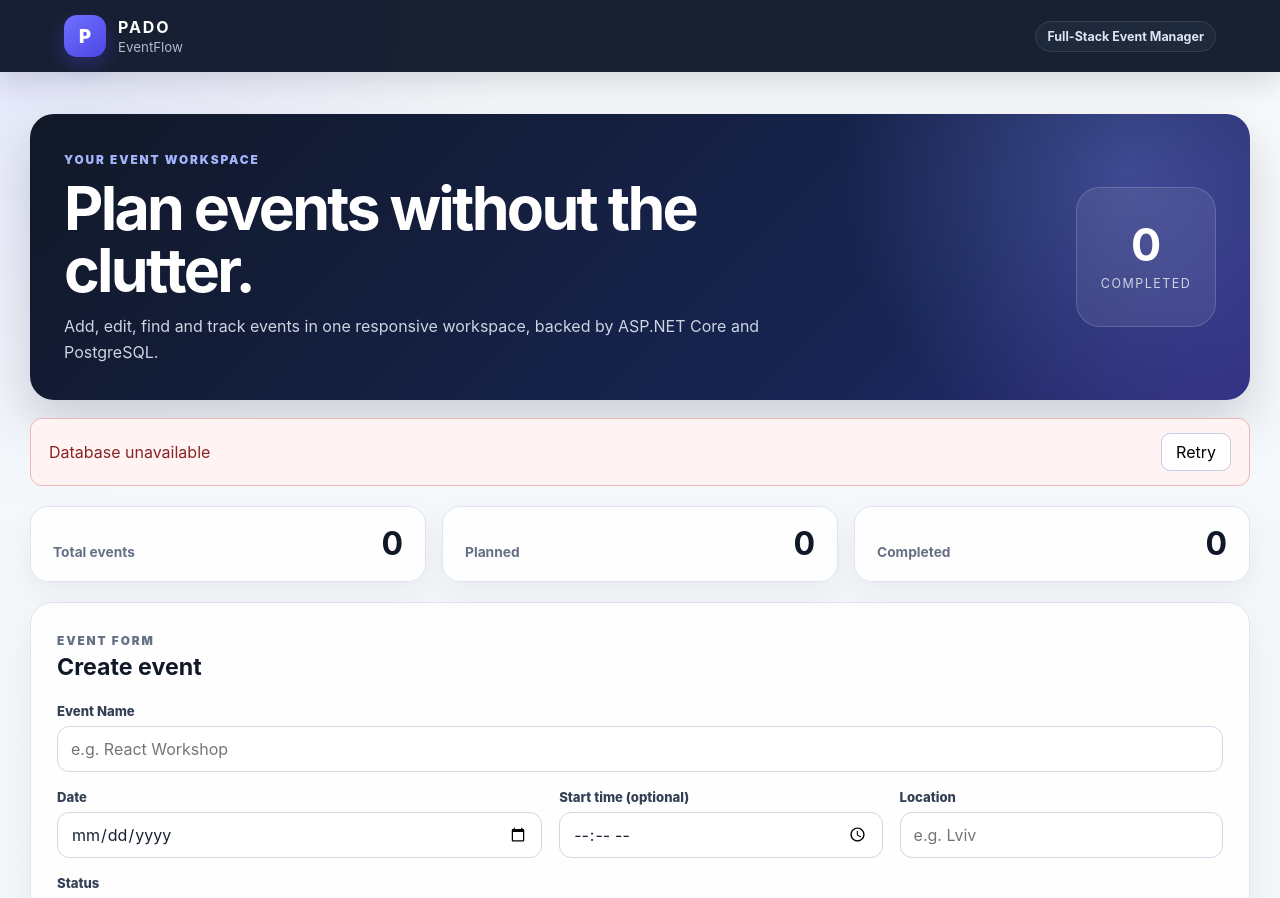
Test: shows API errors and allows retry
The width and height of the screenshot is (1280, 898).
Expected: the message shows "Database unavailable", [49,442,210,462]
Click the button "Retry" at (1196, 452), box [1161,433,1231,471]
(page scrolled)
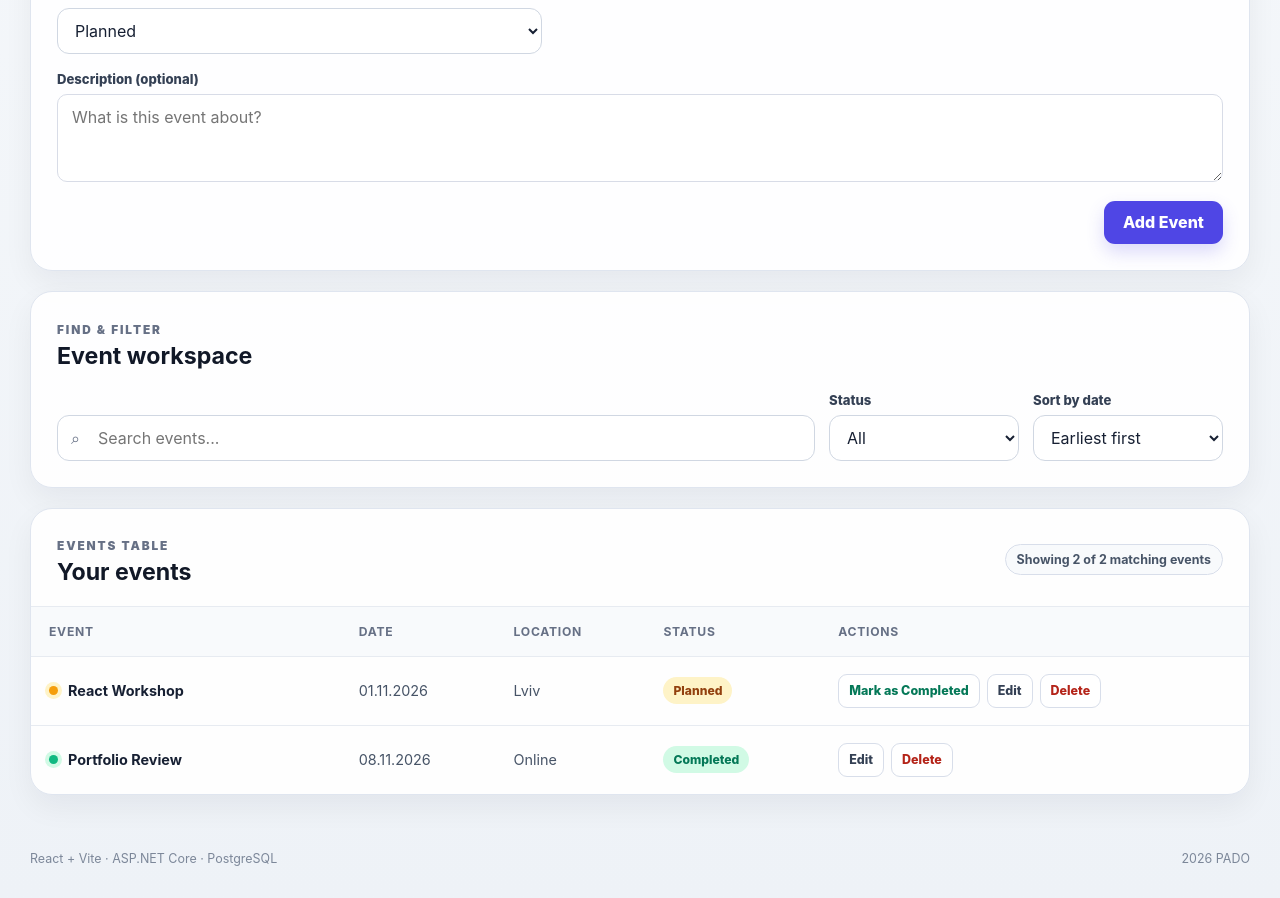
Now the text "React Workshop" is shown, box [68,682,184,699]
